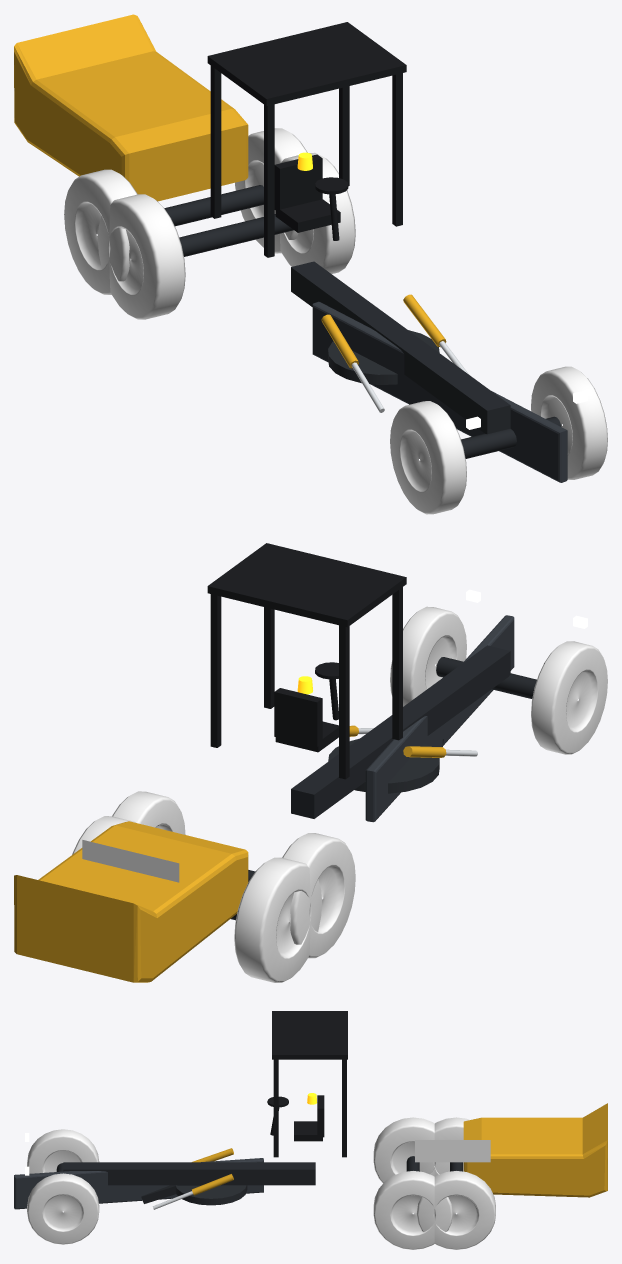
The model's file is equipment--ranchGrader.glb.
3 views of the same model, one above another, from view 1: azimuth 30°, elevation 25°; view 2: azimuth 150°, elevation 25°; view 3: azimuth 270°, elevation 25° (orthographic). The views are drawn at different scales.
Visible parts, largest first — view 1: ranchGrader:shell, rops, axleFront, axleRear2, axleRear1, blade, seat, controls; view 2: ranchGrader:shell, rops, axleFront, axleRear1, axleRear2, blade, seat, controls; view 3: ranchGrader:shell, axleRear2, axleFront, axleRear1, rops, blade, seat.
Boxes of the visible parts, box(x1,y1,x2,y2) form: ranchGrader:shell: box(14, 14, 561, 458); rops: box(207, 22, 406, 257); axleFront: box(390, 366, 607, 514); axleRear2: box(97, 152, 355, 319); axleRear1: box(64, 128, 307, 294); blade: box(312, 301, 567, 482); seat: box(274, 154, 340, 232); controls: box(315, 177, 348, 240); ranchGrader:shell: box(14, 645, 536, 982); rops: box(207, 543, 406, 779); axleFront: box(390, 606, 607, 754); axleRear1: box(72, 816, 321, 982); axleRear2: box(112, 791, 355, 958); blade: box(365, 615, 514, 822); seat: box(274, 688, 338, 752); controls: box(315, 662, 338, 720); ranchGrader:shell: box(56, 1103, 607, 1209); axleRear2: box(373, 1117, 452, 1249); axleFront: box(27, 1129, 99, 1244); axleRear1: box(416, 1117, 495, 1249); rops: box(272, 1011, 347, 1157); blade: box(14, 1158, 263, 1209); seat: box(294, 1095, 324, 1141).
Bounding box in the file's own units: 2.07 × 2.86 × 8.23.
